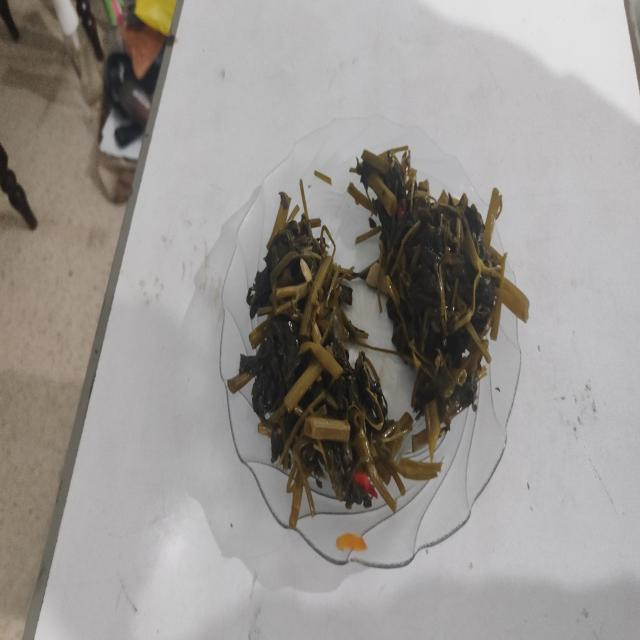tumis_kangkung: (228, 192, 406, 528), (348, 148, 529, 455)
